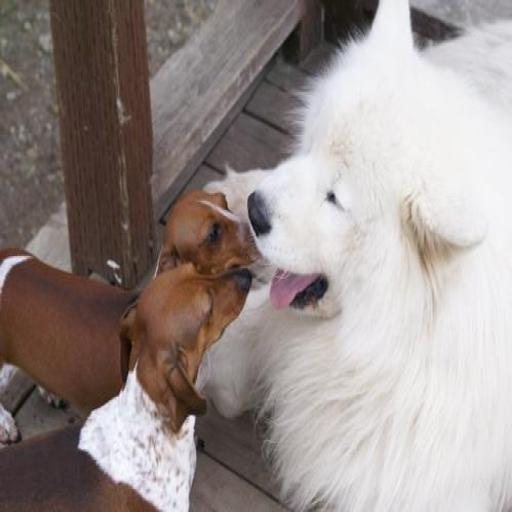dog_face: (246, 5, 492, 322)
